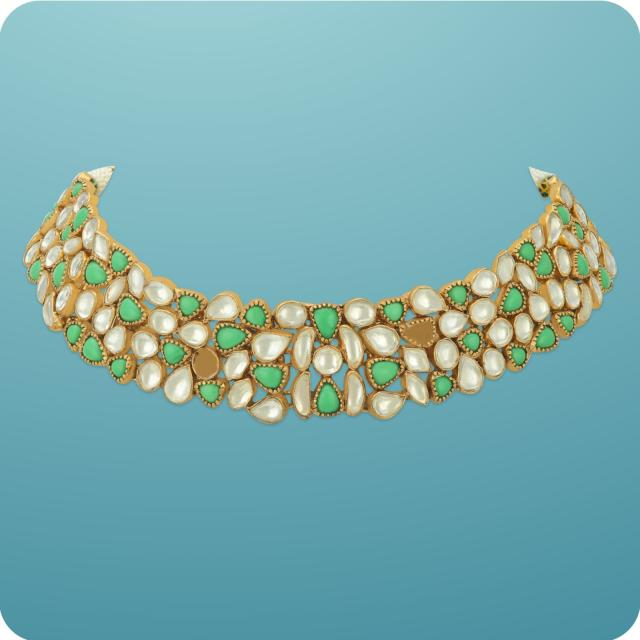missing gem: (404, 321, 434, 346), (193, 350, 217, 378)
